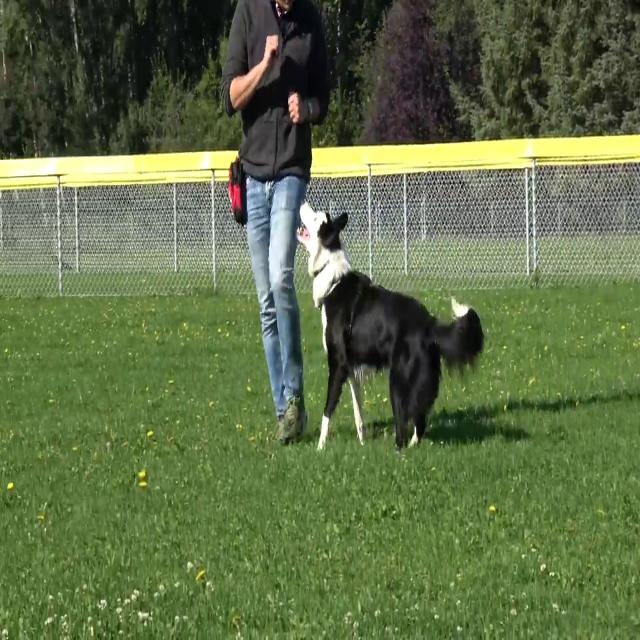Dog: (260, 158, 486, 451)
